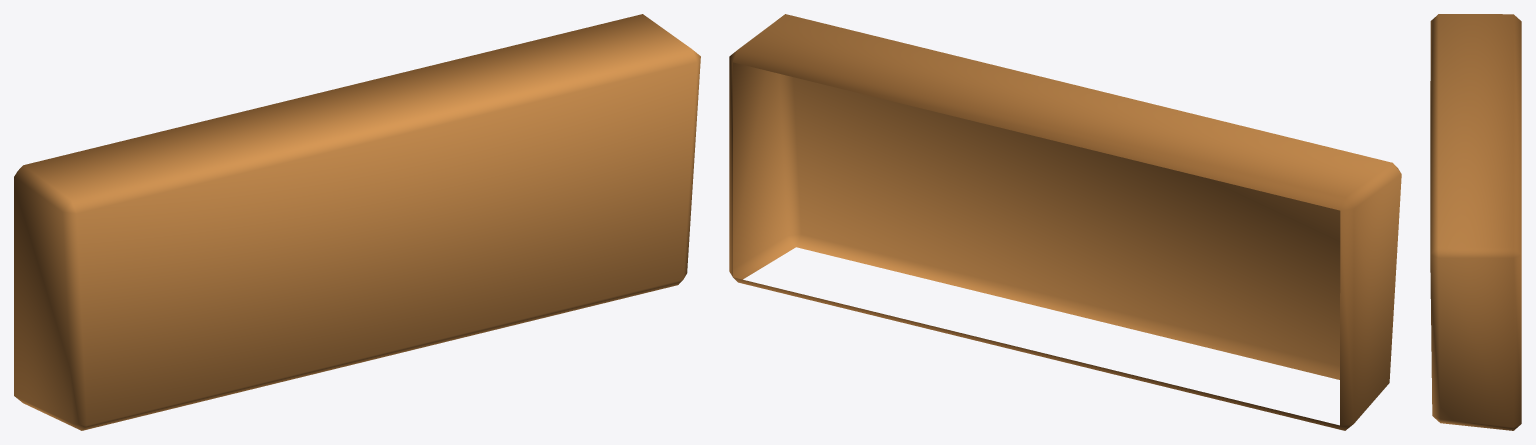
File: block_l2_lo.glb
3 renders of one model, left to right at view 1: azimuth 30°, elevation 25°; view 2: azimuth 150°, elevation 25°; view 3: azimuth 270°, elevation 25°, orthographic. The views are drawn at different scales.
Visible parts, largest first — view 1: block_l2_lo; view 2: block_l2_lo; view 3: block_l2_lo.
Part boxes in pixels (box(x1,y1,x2,y2)): block_l2_lo: box(14, 14, 700, 430); block_l2_lo: box(729, 14, 1401, 430); block_l2_lo: box(1430, 14, 1521, 430).
Size of the model in its own units: 2.8 by 1 by 0.4502.
